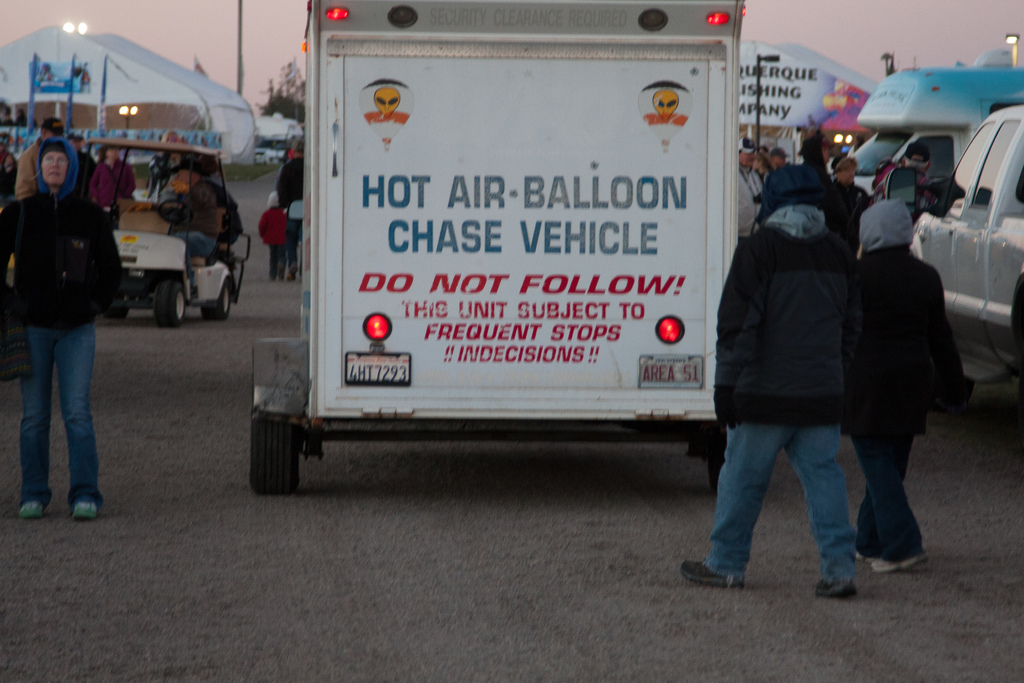Car: (78, 134, 252, 324), (914, 101, 1023, 360)
